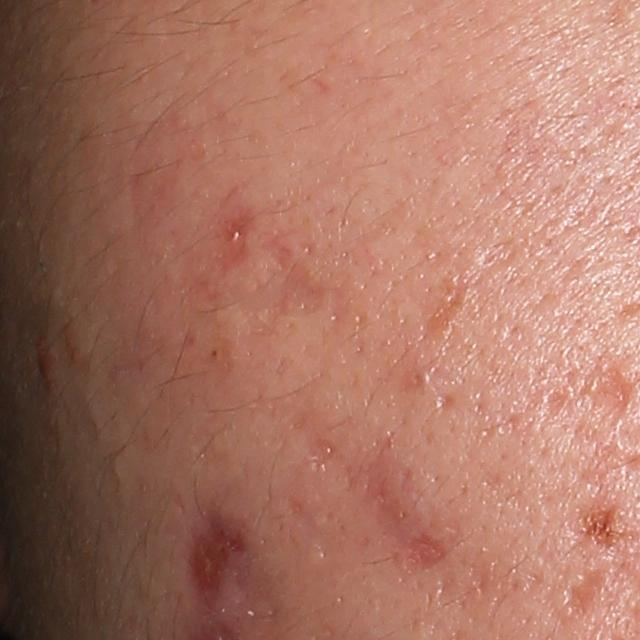atrophic_scar: (208, 189, 423, 356), (308, 427, 459, 579)
comedo: (407, 369, 429, 389)
papule: (565, 569, 613, 619), (31, 340, 64, 387)
